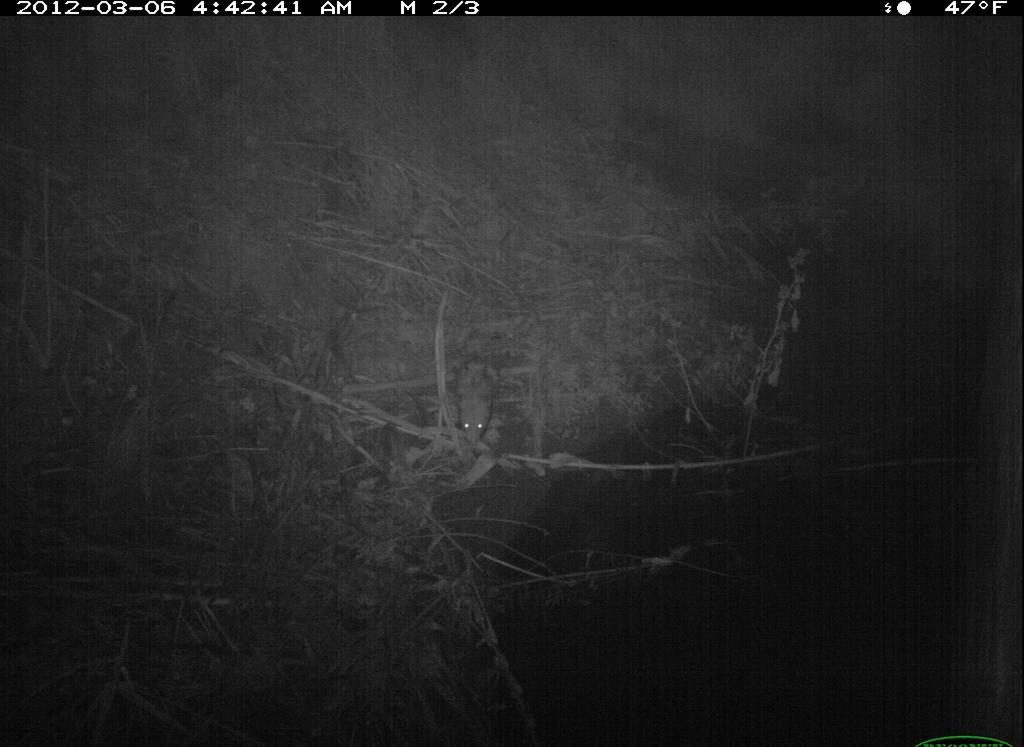opossum: (446, 356, 513, 454)
